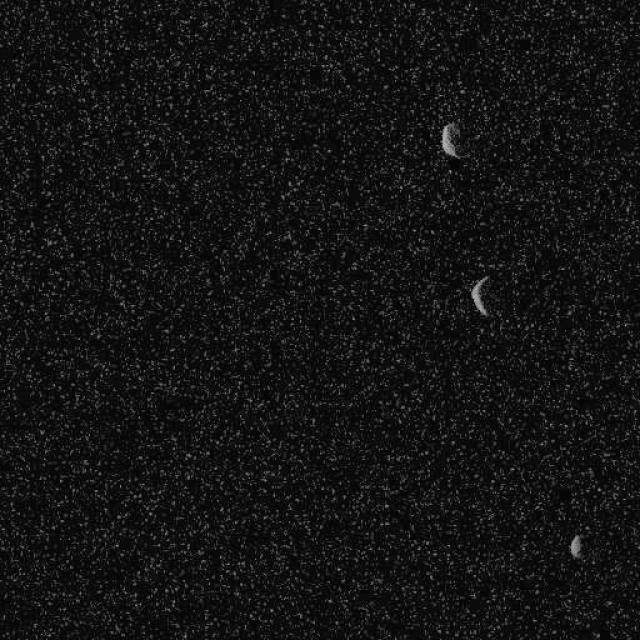D2: (469, 274, 491, 316), (440, 121, 462, 160), (568, 532, 584, 558)
